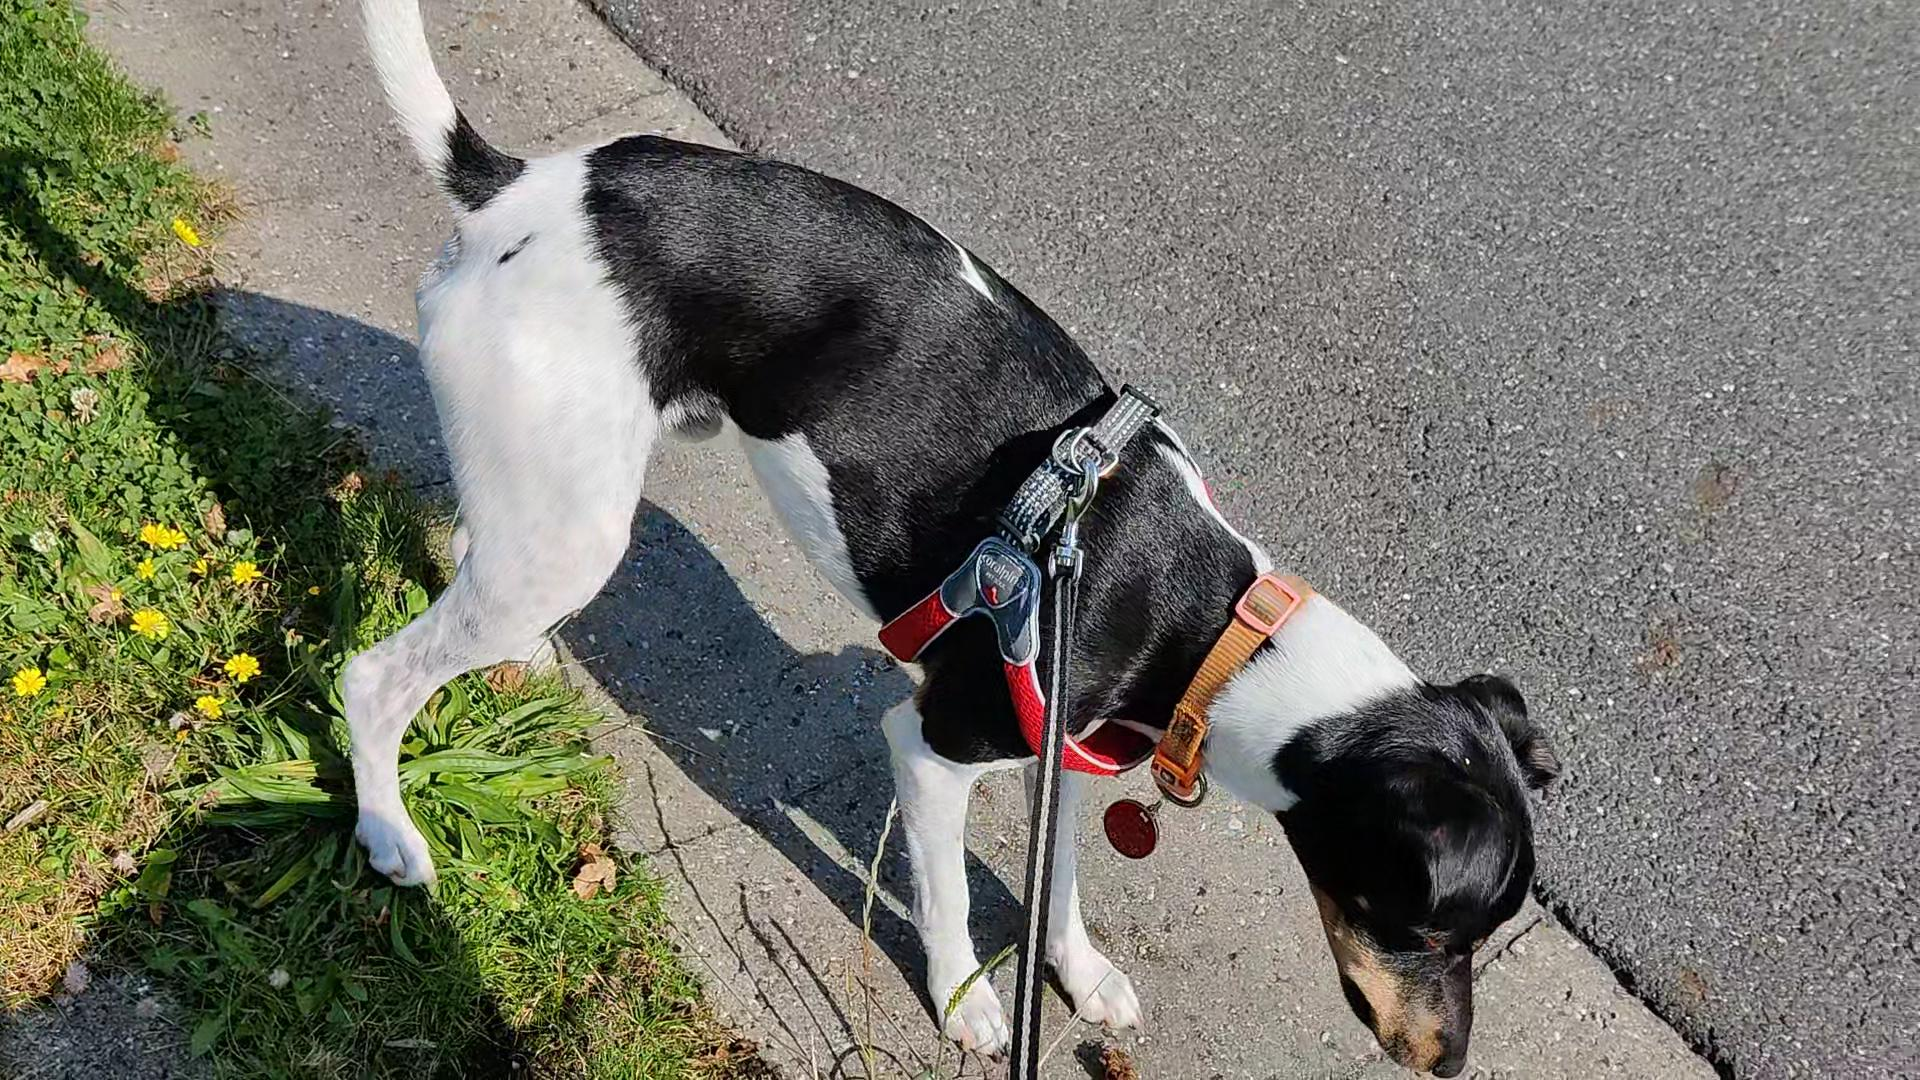Dog: (331, 0, 1567, 1077)
